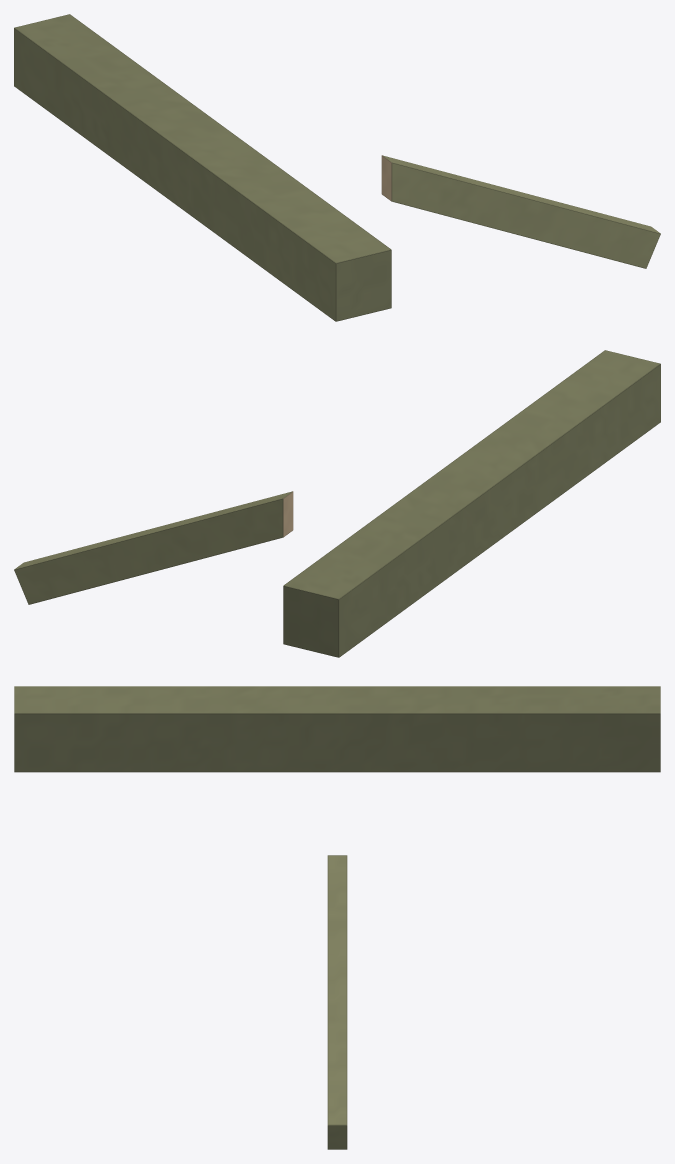
File: rafter-at-ridge.glb
3 views of the same model, one above another, from view 1: azimuth 30°, elevation 25°; view 2: azimuth 150°, elevation 25°; view 3: azimuth 270°, elevation 25° (orthographic).
Parts seen in each view (by area): view 1: part-a, part-b; view 2: part-a, part-b; view 3: part-a, part-b.
Boxes of the visible parts, <box> form: part-a: <box>14,14,391,321</box>; part-b: <box>381,155,660,268</box>; part-a: <box>283,350,660,657</box>; part-b: <box>14,491,293,604</box>; part-a: <box>14,686,660,772</box>; part-b: <box>327,855,347,1149</box>.
Bounding box in the file's own units: 1.3 × 0.6012 × 1.5.
